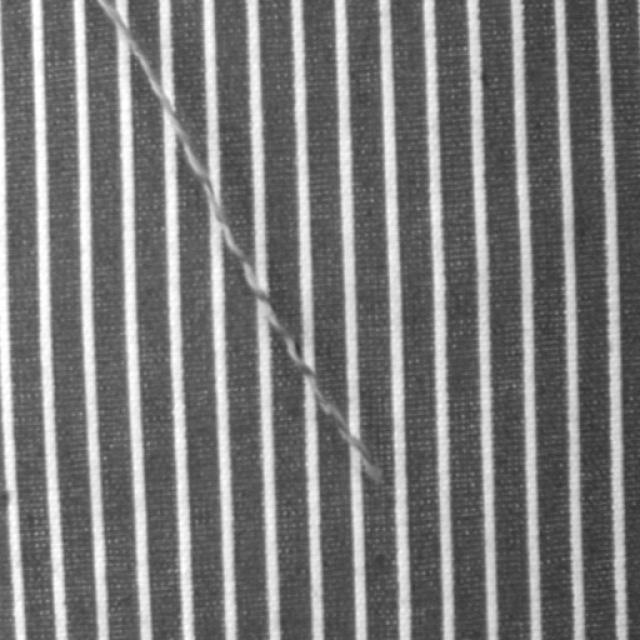Foreign-Body-Defect: (94, 0, 381, 484)
